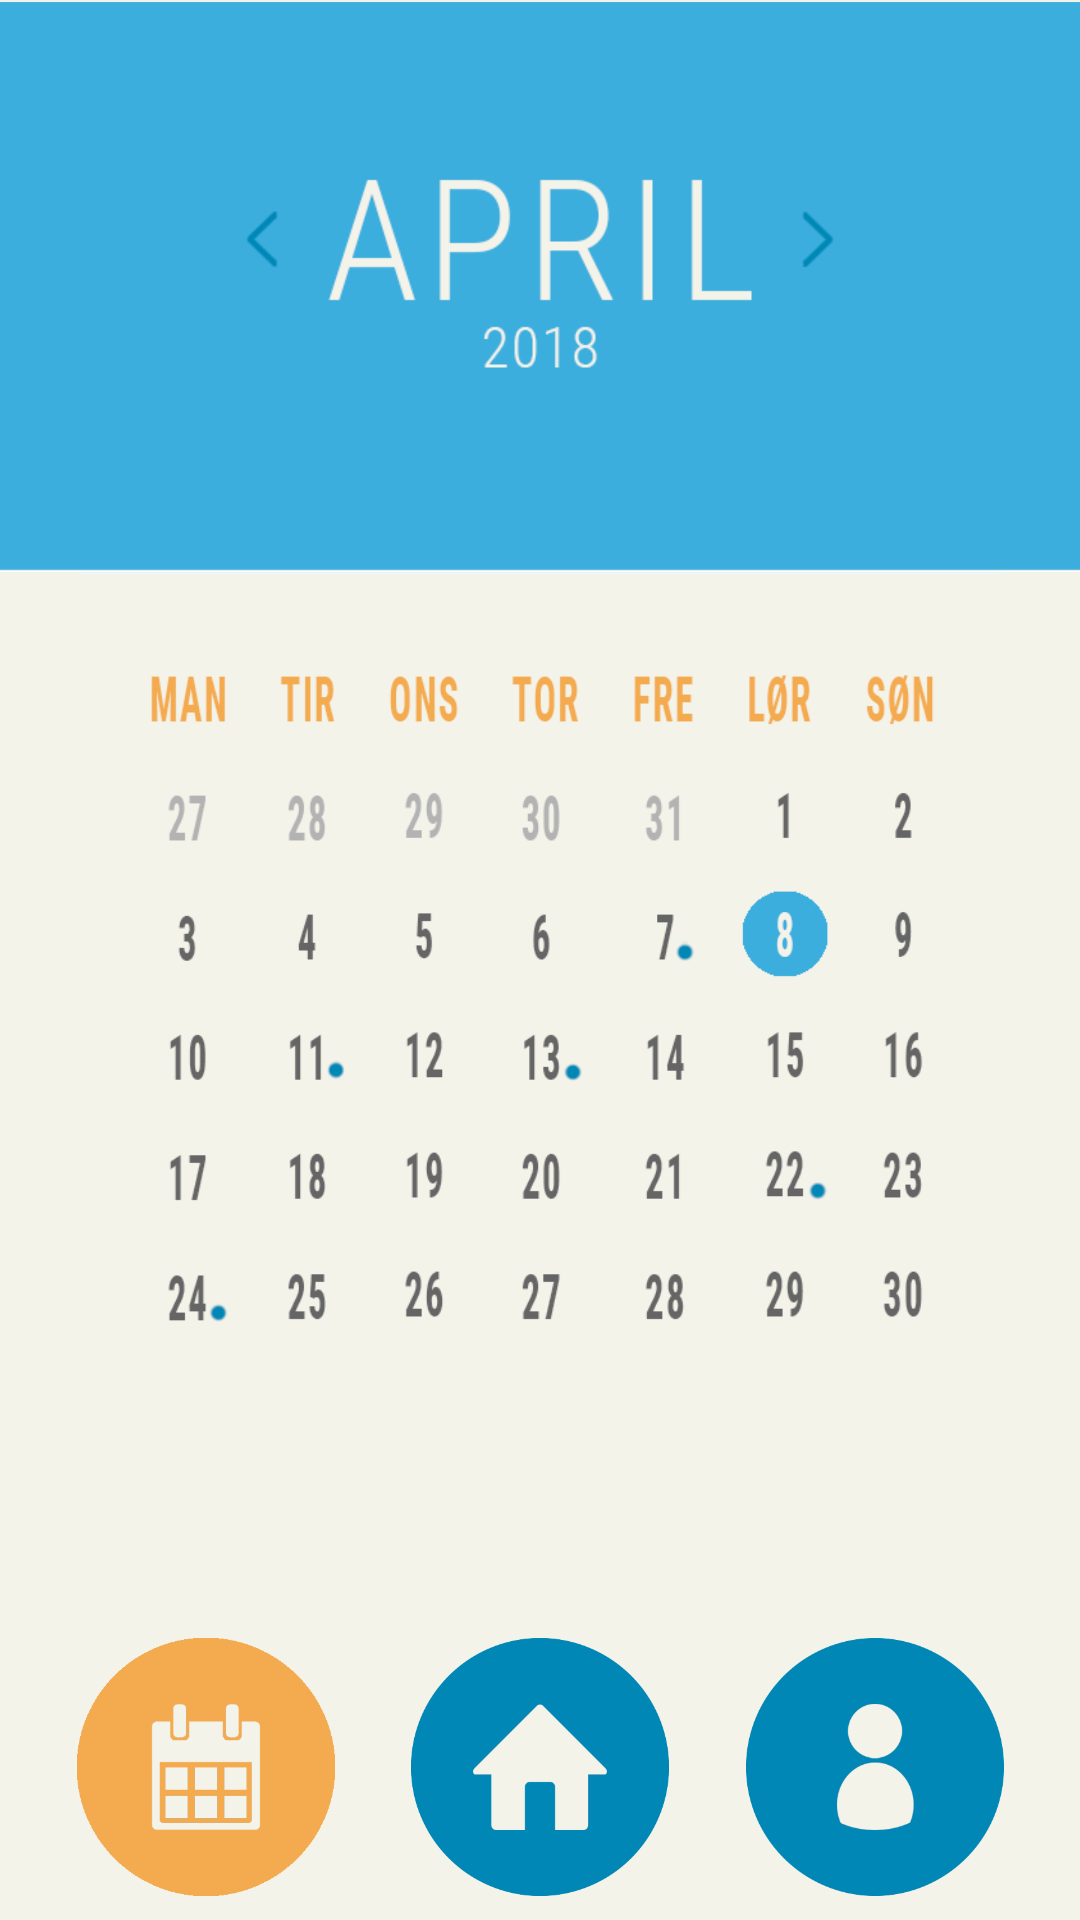

Icon click points for this 1080w x 1920h phone screenshot, format [x,y]:
calendar clicked: [206,1767]
homepage unclicked: [540,1767]
profile unclicked: [875,1767]
